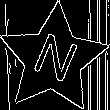N_SW: (26, 28, 81, 90)
